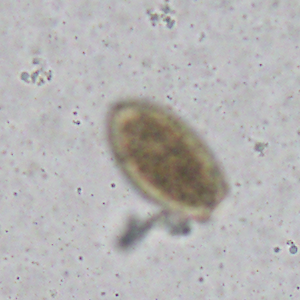Fasciola_hepatica_egg: (109, 98, 228, 219)
